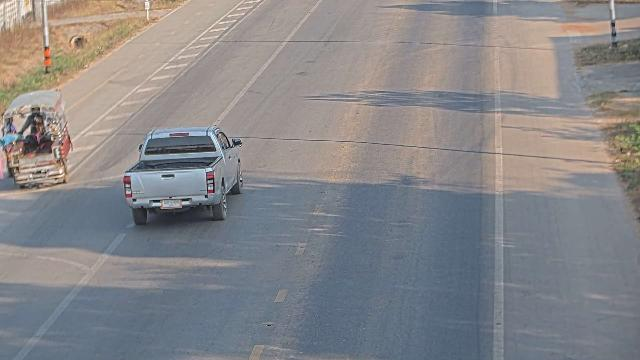pickup-truck: (122, 124, 243, 225), (0, 89, 73, 189)
